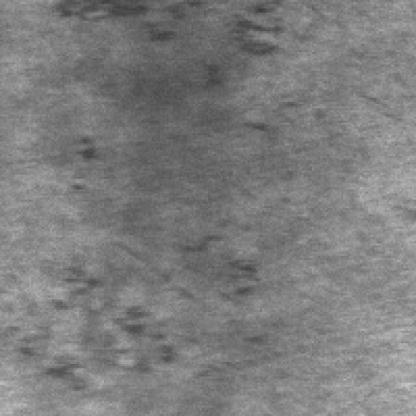rolled-in_scale: (4, 229, 248, 387), (51, 0, 285, 62)
